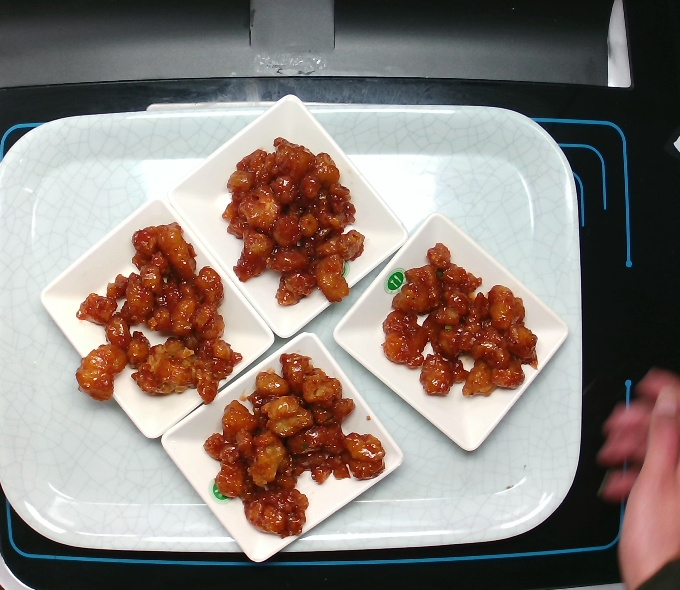wcq-TangCuPaiGu: (54, 223, 246, 417), (200, 351, 392, 545), (373, 234, 547, 413), (213, 130, 371, 308)
